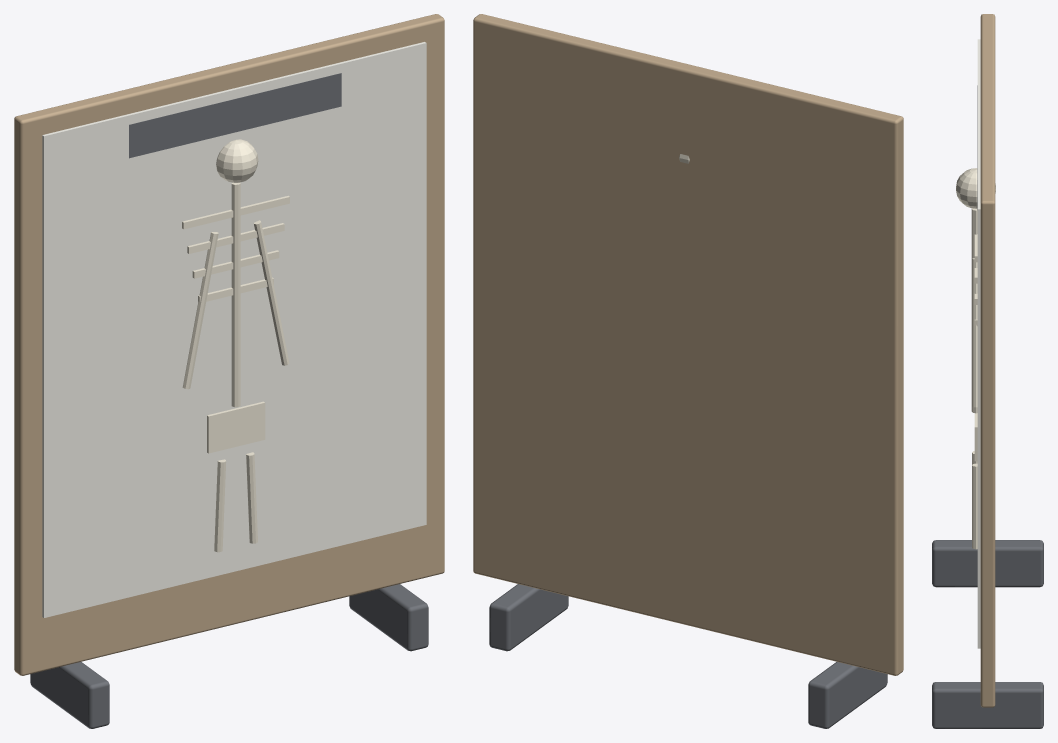
The model's file is human-anatomy-and-education-kit-wall-chart-skeleton-f2caa9b7__38968.glb.
3 views of the same model, side by side, from view 1: azimuth 30°, elevation 25°; view 2: azimuth 150°, elevation 25°; view 3: azimuth 270°, elevation 25° (orthographic). The views are drawn at different scales.
Parts seen in each view (by area): view 1: wall-chart-skeleton; view 2: wall-chart-skeleton; view 3: wall-chart-skeleton.
Boxes of the visible parts, <box> form: wall-chart-skeleton: <box>14,14,444,728</box>; wall-chart-skeleton: <box>473,14,903,728</box>; wall-chart-skeleton: <box>932,14,1043,728</box>.
Size of the model in its own units: 1.2 by 1.62 by 0.2999.
